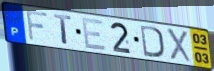2: (110, 22, 132, 55)
D: (139, 24, 166, 59)
E: (80, 17, 108, 52)
F: (25, 9, 50, 43)
T: (52, 13, 73, 47)
X: (165, 27, 193, 64)
